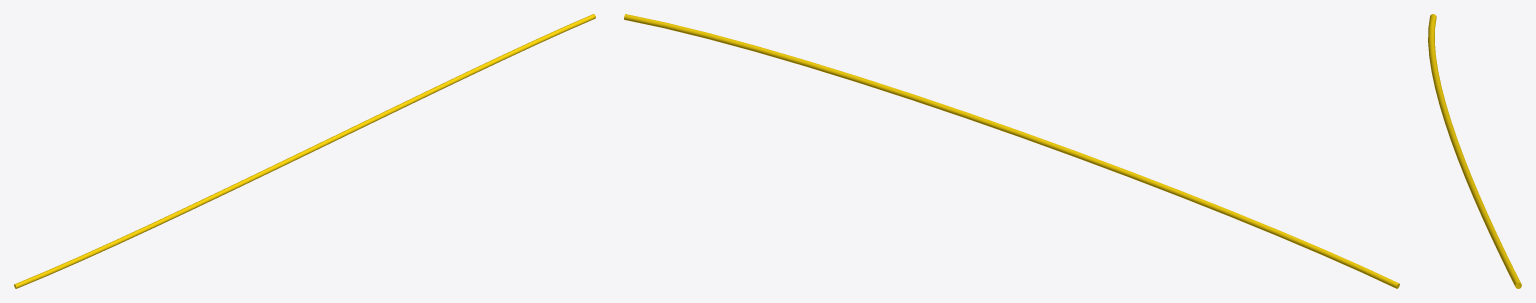
File: Event_421127236_track_49.fbx
3 renders of one model, left to right at view 1: azimuth 30°, elevation 25°; view 2: azimuth 150°, elevation 25°; view 3: azimuth 270°, elevation 25°, orthographic. The views are drawn at different scales.
Parts seen in each view (by area): view 1: Model; view 2: Model; view 3: Model.
Part boxes in pixels (x1,y1,x2,y2): Model: (14, 14, 595, 288); Model: (624, 14, 1399, 288); Model: (1428, 14, 1521, 288).
Size of the model in its own units: 5.62 by 0.9002 by 0.5559.
